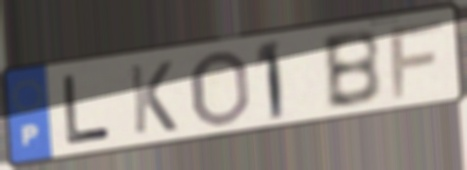1: (252, 38, 288, 122)
B: (318, 26, 385, 113)
F: (386, 16, 447, 102)
K: (126, 58, 181, 137)
L: (60, 72, 114, 149)
O: (189, 48, 253, 129)
